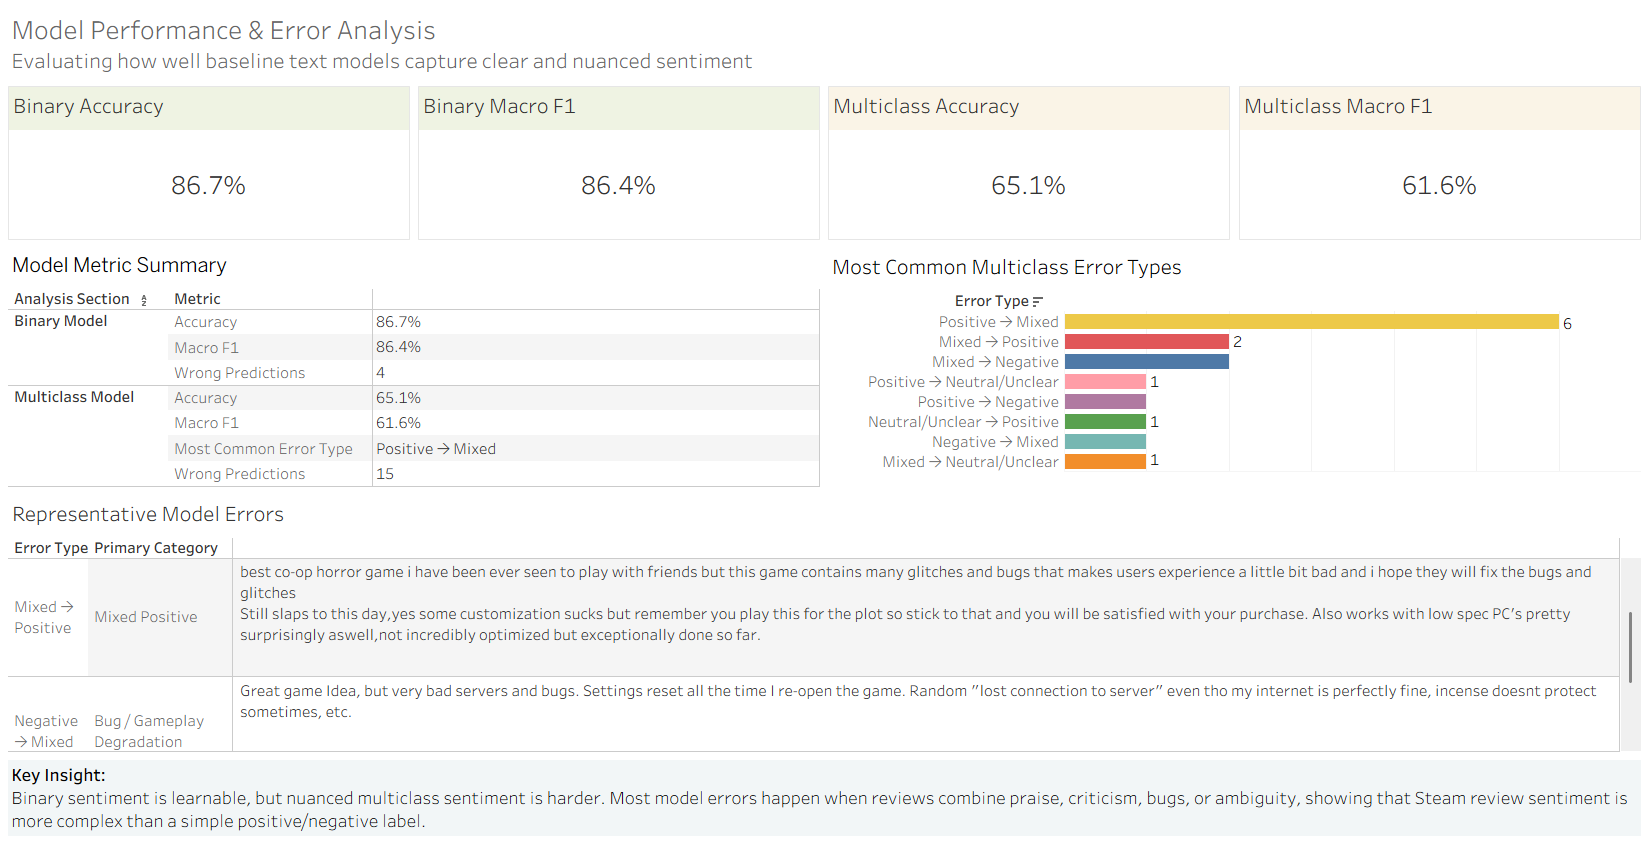

Layout of this report page (visuals, bound fields, positions):
{"tool":"tableau","page":{"name":"04 Model Performance","canvas":[1000,1000],"units":"permille","ordinal":3},"visuals":[{"type":"text","box":[4.8,9.4,990.3,90.6]},{"type":"worksheet","title":"Chart Binary Accuracy","mark":"Automatic","box":[4.8,100,247.6,190.4]},{"type":"worksheet","title":"Chart Binary Macro F1","mark":"Automatic","box":[252.4,100,247.6,190.4]},{"type":"worksheet","title":"Chart Multiclass Accuracy","mark":"Automatic","box":[500,100,247.6,190.4]},{"type":"worksheet","title":"Chart Multiclass Macro F1","mark":"Automatic","box":[747.6,100,247.6,190.4]},{"type":"worksheet","title":"Chart Model Summary Table","mark":"Automatic","rows":["analysis_section","metric"],"box":[4.8,290.4,495.1,290.4]},{"type":"worksheet","title":"Chart Error Type Distribution","mark":"Automatic","rows":["error_type"],"cols":["review_preview"],"box":[500,290.4,495.2,290.4]},{"type":"worksheet","title":"Chart Representative Model Errors","mark":"Automatic","rows":["error_type","primary_category"],"box":[4.8,580.8,990.3,311.1]},{"type":"text","box":[4.8,891.9,990.3,98.7]}]}

Visuals, with their boxes on the dashboard's canvas, which has no fixed pixel size, in thousandths of its width and height (x1, y1, x2, y2). These are canvas units, not pixel positions in the 1645x842 screenshot, which may show the page scaled, cropped or inside an application window:
text: 5 9 995 100
"Chart Binary Accuracy" worksheet: 5 100 252 290
"Chart Binary Macro F1" worksheet: 252 100 500 290
"Chart Multiclass Accuracy" worksheet: 500 100 748 290
"Chart Multiclass Macro F1" worksheet: 748 100 995 290
"Chart Model Summary Table" worksheet: 5 290 500 581
"Chart Error Type Distribution" worksheet: 500 290 995 581
"Chart Representative Model Errors" worksheet: 5 581 995 892
text: 5 892 995 991
